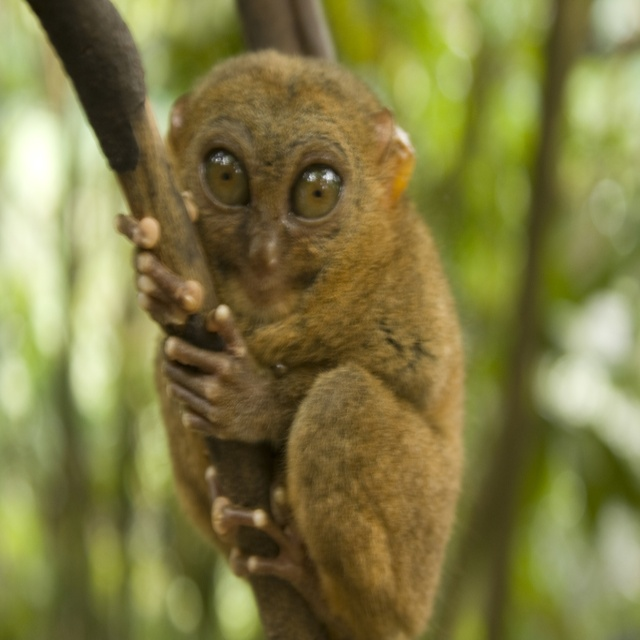Monkey: (114, 49, 470, 640)
